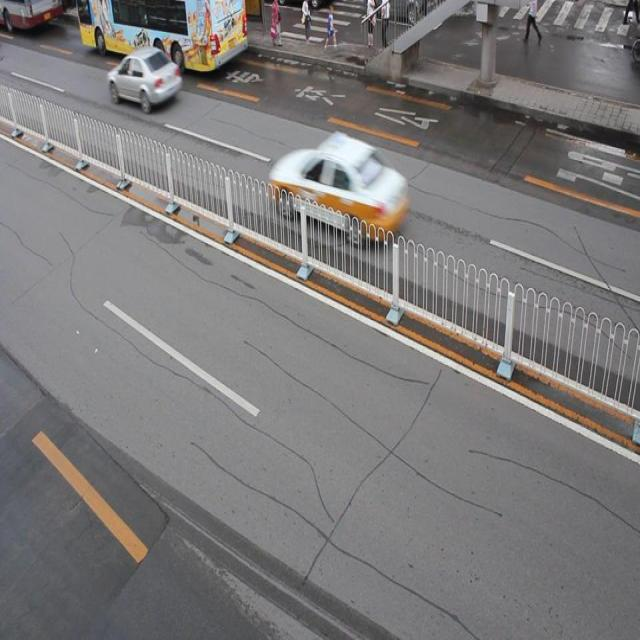car: (270, 134, 407, 242), (108, 46, 181, 108)
van: (76, 1, 247, 74)
